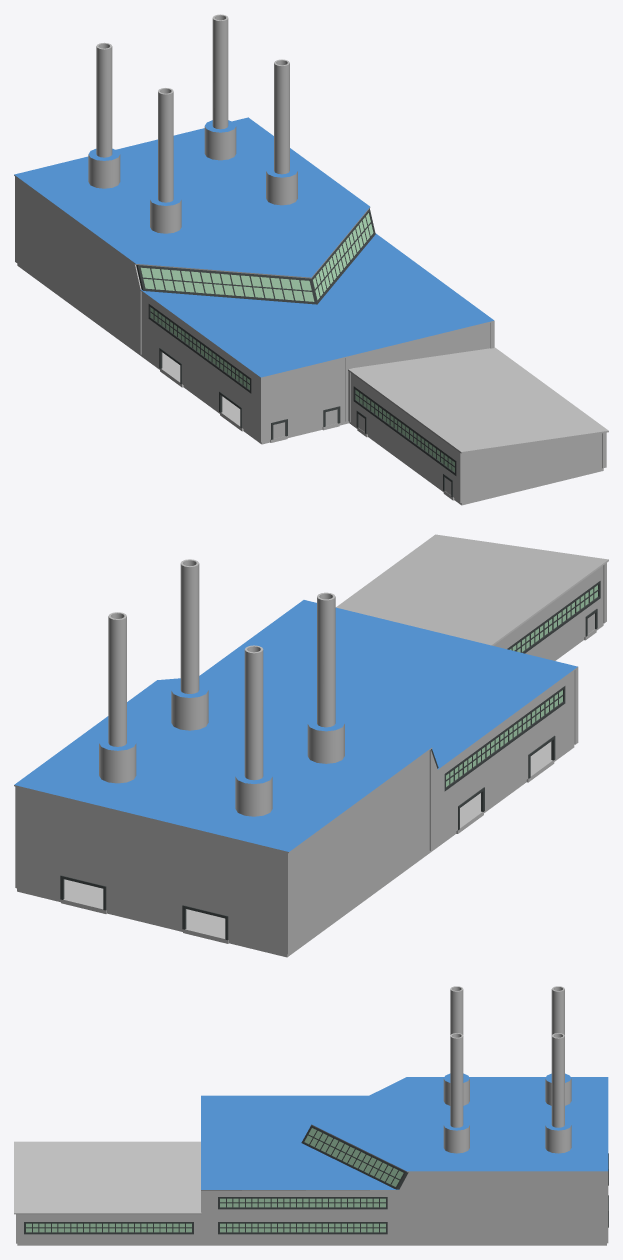
Rendered from Smelting_building.fbx.
The picture shows the model from 3 angles, top to bottom: view 1: azimuth 30°, elevation 25°; view 2: azimuth 150°, elevation 25°; view 3: azimuth 270°, elevation 25°; orthographic projection. The views are drawn at different scales.
Parts seen in each view (by area): view 1: Circle.013, Circle.019, Circle.018, Circle.016, Plane.065, floor, Circle.014, Plane.066, Plane.060, Plane.072, Circle.015, Circle.024; view 2: Circle.013, Circle.019, Circle.018, Circle.016, floor, Circle.027, Plane.072, Circle.024, Circle.021, Plane.060, Plane.071, Circle.015; view 3: Circle.013, Circle.019, Circle.016, Circle.018, floor, Plane.065, Plane.070, Plane.074, Plane.068, Circle.022, Circle.023, Circle.025 (+6 smaller).
Part boxes in pixels (box(x1,y1,x2,y2)): Circle.013: box(15, 14, 606, 502); Circle.019: box(14, 117, 370, 278); Circle.018: box(140, 233, 494, 378); Circle.016: box(348, 347, 608, 453); Plane.065: box(141, 213, 373, 301); floor: box(17, 264, 603, 505); Circle.014: box(136, 208, 375, 304); Plane.066: box(143, 216, 371, 301); Plane.060: box(355, 390, 454, 471); Plane.072: box(150, 307, 249, 389); Circle.015: box(353, 386, 456, 475); Circle.024: box(148, 304, 251, 393); Circle.013: box(15, 559, 606, 954); Circle.019: box(14, 664, 432, 853); Circle.018: box(199, 600, 578, 770); Circle.016: box(336, 534, 608, 645); floor: box(17, 623, 603, 957); Circle.027: box(60, 735, 555, 940); Plane.072: box(446, 690, 562, 786); Circle.024: box(444, 686, 565, 791); Circle.021: box(429, 750, 437, 850); Plane.060: box(509, 585, 597, 652); Plane.071: box(446, 693, 563, 784); Circle.015: box(507, 581, 600, 653); Circle.013: box(16, 986, 608, 1243); Circle.019: box(311, 1077, 608, 1172); Circle.016: box(14, 1141, 201, 1214); Circle.018: box(201, 1095, 399, 1190); floor: box(17, 1243, 606, 1245); Plane.065: box(304, 1128, 403, 1186); Plane.070: box(220, 1223, 385, 1232); Plane.074: box(220, 1198, 385, 1207); Plane.068: box(26, 1223, 191, 1232); Circle.022: box(24, 1222, 193, 1234); Circle.023: box(218, 1222, 387, 1234); Circle.025: box(218, 1197, 387, 1209).
Size of the model in its own units: 3414 by 3147 by 9058.
